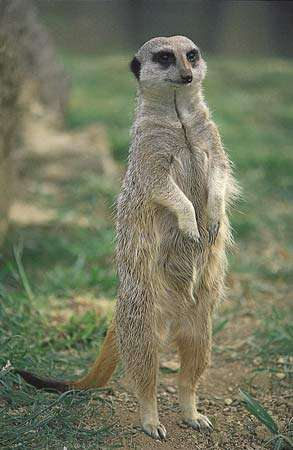meerkat: (99, 28, 247, 443)
